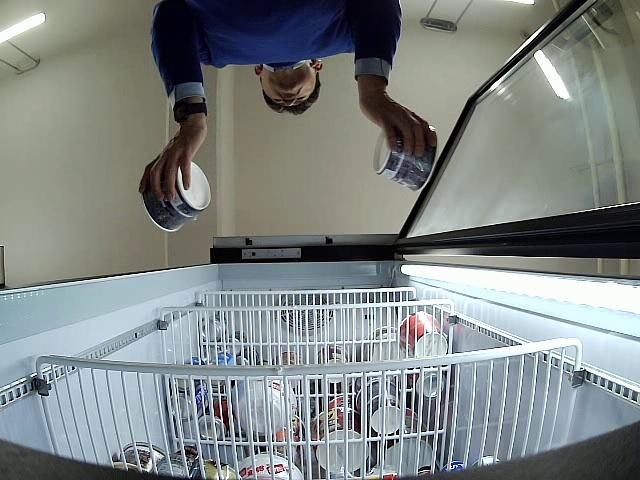00_hand: (358, 83, 437, 158), (139, 124, 208, 204)
07_buldak_L: (142, 160, 211, 231), (371, 126, 438, 191)
